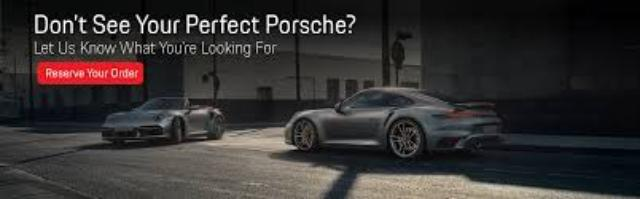porsche: (284, 88, 504, 162), (100, 96, 226, 146)
